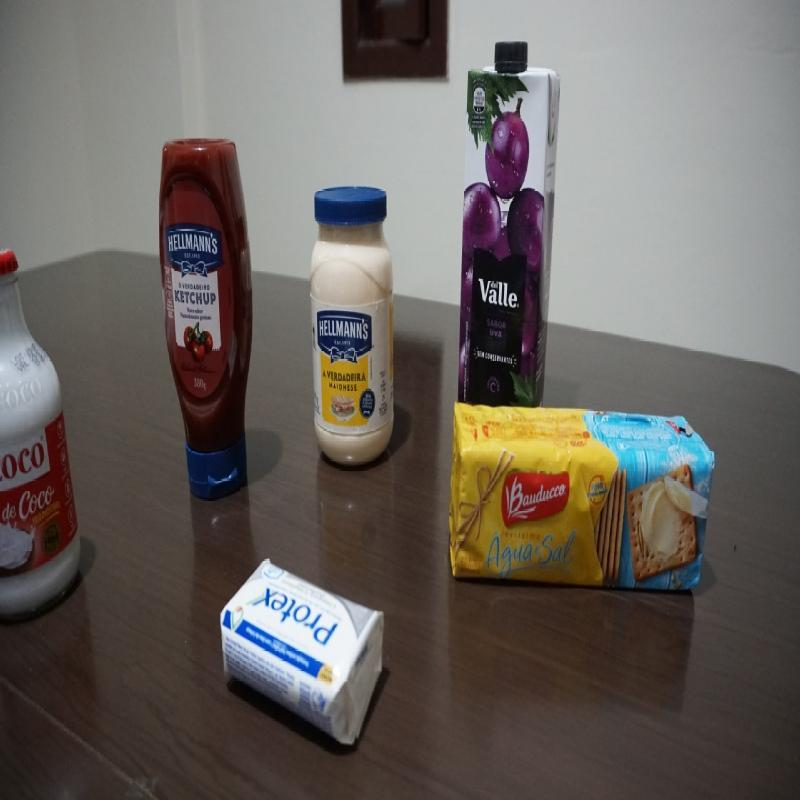Coconut Milk: (0, 247, 81, 627)
Cracker: (447, 401, 713, 603)
Ketchup: (155, 134, 258, 505)
Mayonnaise: (309, 183, 400, 474)
Soap: (219, 558, 388, 748)
